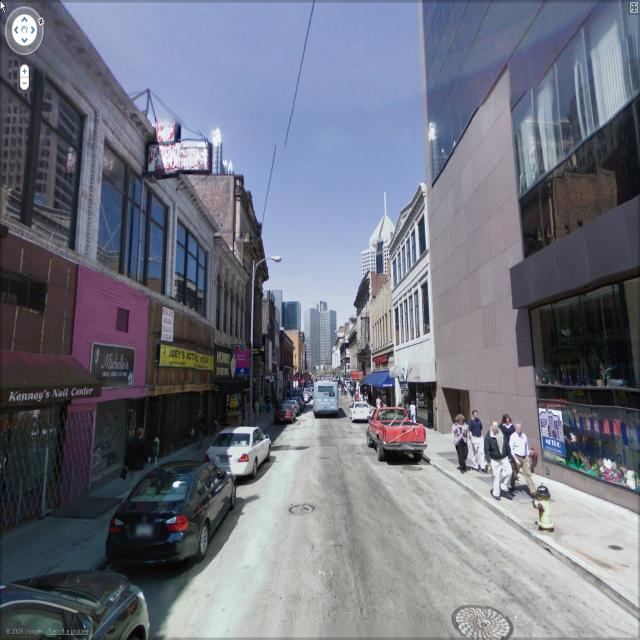b_1: (423, 3, 640, 466), (1, 5, 137, 483), (88, 107, 216, 434), (393, 194, 444, 422), (233, 178, 277, 412), (204, 249, 248, 412), (339, 284, 386, 394), (345, 194, 393, 286), (371, 275, 398, 409), (301, 290, 337, 384), (276, 329, 304, 394), (280, 294, 304, 342), (268, 291, 286, 335)
